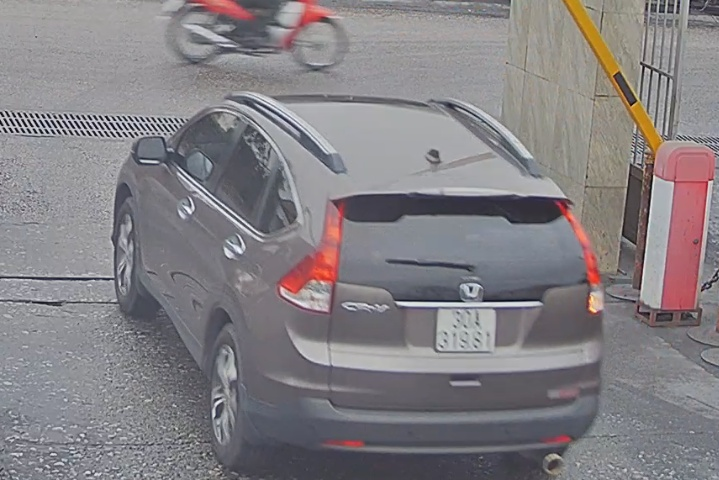vehicle plate: (435, 298, 498, 352)
